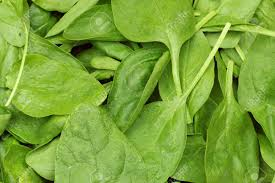spinach: (117, 7, 254, 132), (61, 84, 142, 181), (9, 24, 92, 104)
